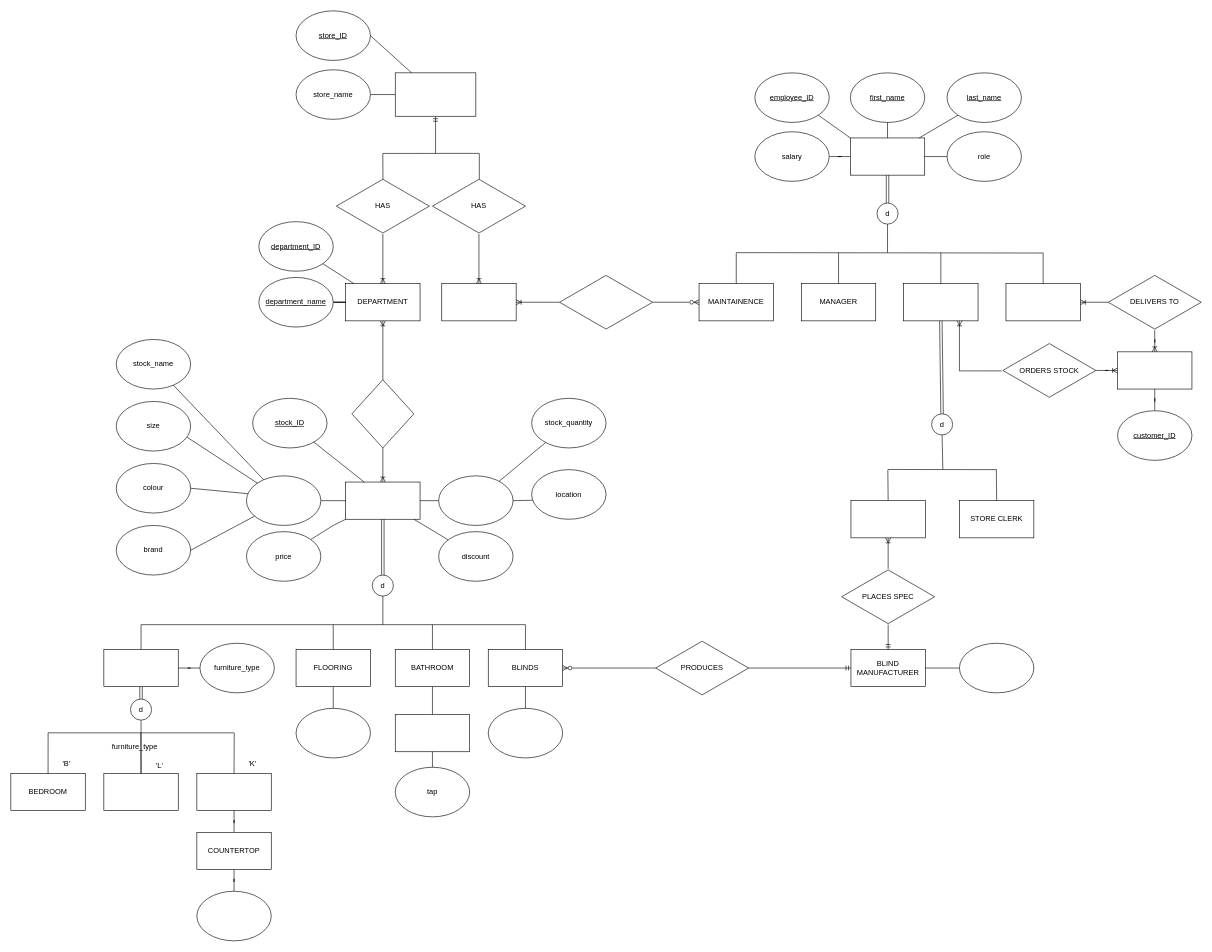
This 1212x952 diagram has some shape labels left out. Each missing label, with the centre of its shape:
BATH: pixel 432 733
blind_type: pixel 525 733
BLINDS CLERK: pixel 887 519
CLERK: pixel 940 302
CUSTOMER: pixel 1154 370
DELIVERY DRIVER: pixel 1042 302
description: pixel 283 500
EMPLOYEE: pixel 887 156
floor_type: pixel 332 733
FURNITURE: pixel 140 668
FURNITURE WORLD: pixel 435 94
KITCHEN: pixel 233 792
LIVING ROOM: pixel 140 792
MAINTAINS: pixel 606 302
manufacturer_ID: pixel 996 668
material: pixel 233 916
SHOWCASES: pixel 382 413
STOCK: pixel 382 500
WAREHOUSE: pixel 478 302
warehouse_details: pixel 475 500
